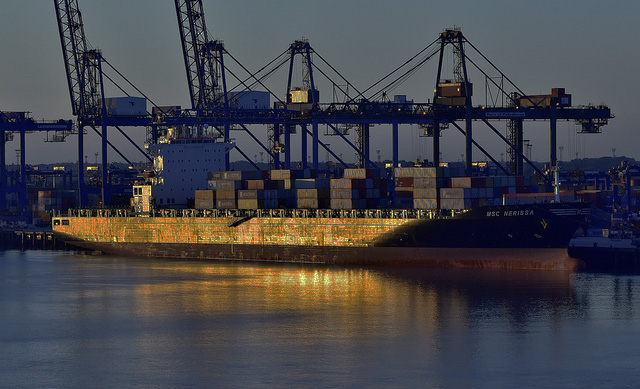container_ship: (48, 127, 596, 272)
